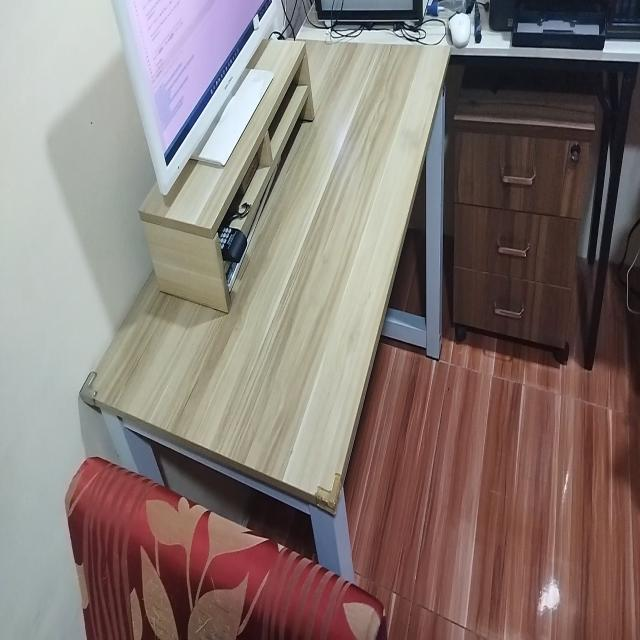table: (75, 21, 457, 523)
